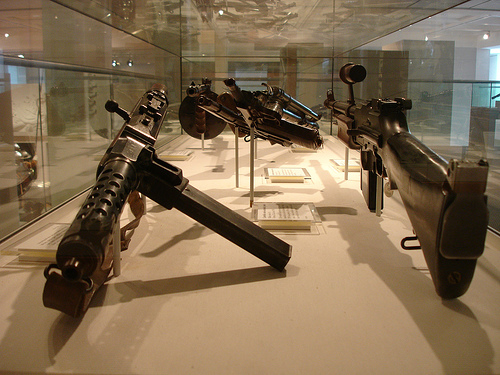rifle: (326, 75, 496, 297), (35, 78, 161, 307), (179, 69, 321, 159)
